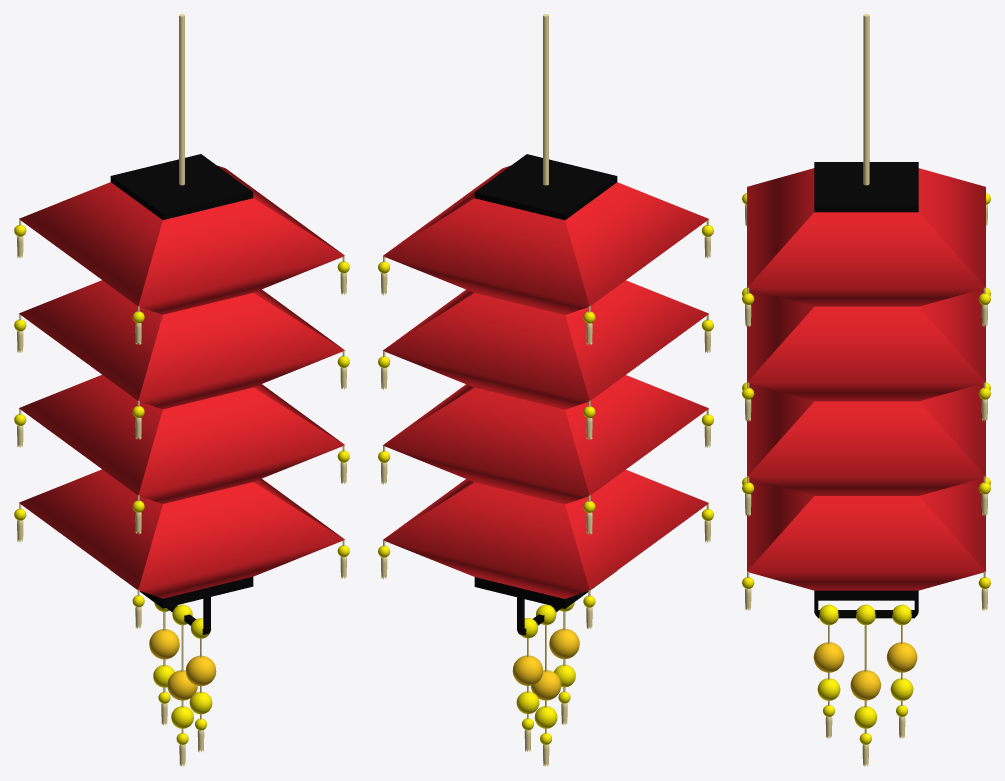
File: Lantern2.fbx
The picture shows the model from 3 angles, left to right: view 1: azimuth 30°, elevation 25°; view 2: azimuth 150°, elevation 25°; view 3: azimuth 270°, elevation 25°; orthographic projection.
Parts seen in each view (by area): view 1: Lantern2; view 2: Lantern2; view 3: Lantern2.
Part boxes in pixels (left/top/right/bottom): Lantern2: left=14, top=14, right=349, bottom=766; Lantern2: left=378, top=14, right=713, bottom=766; Lantern2: left=742, top=14, right=990, bottom=766.
Size of the model in its own units: 2.39 by 7.93 by 2.38.
Materials: 3 (2 with a texture image).
